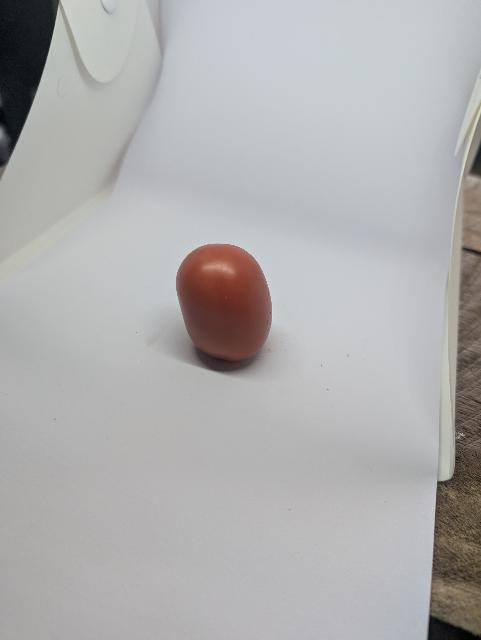red: (162, 227, 305, 383)
